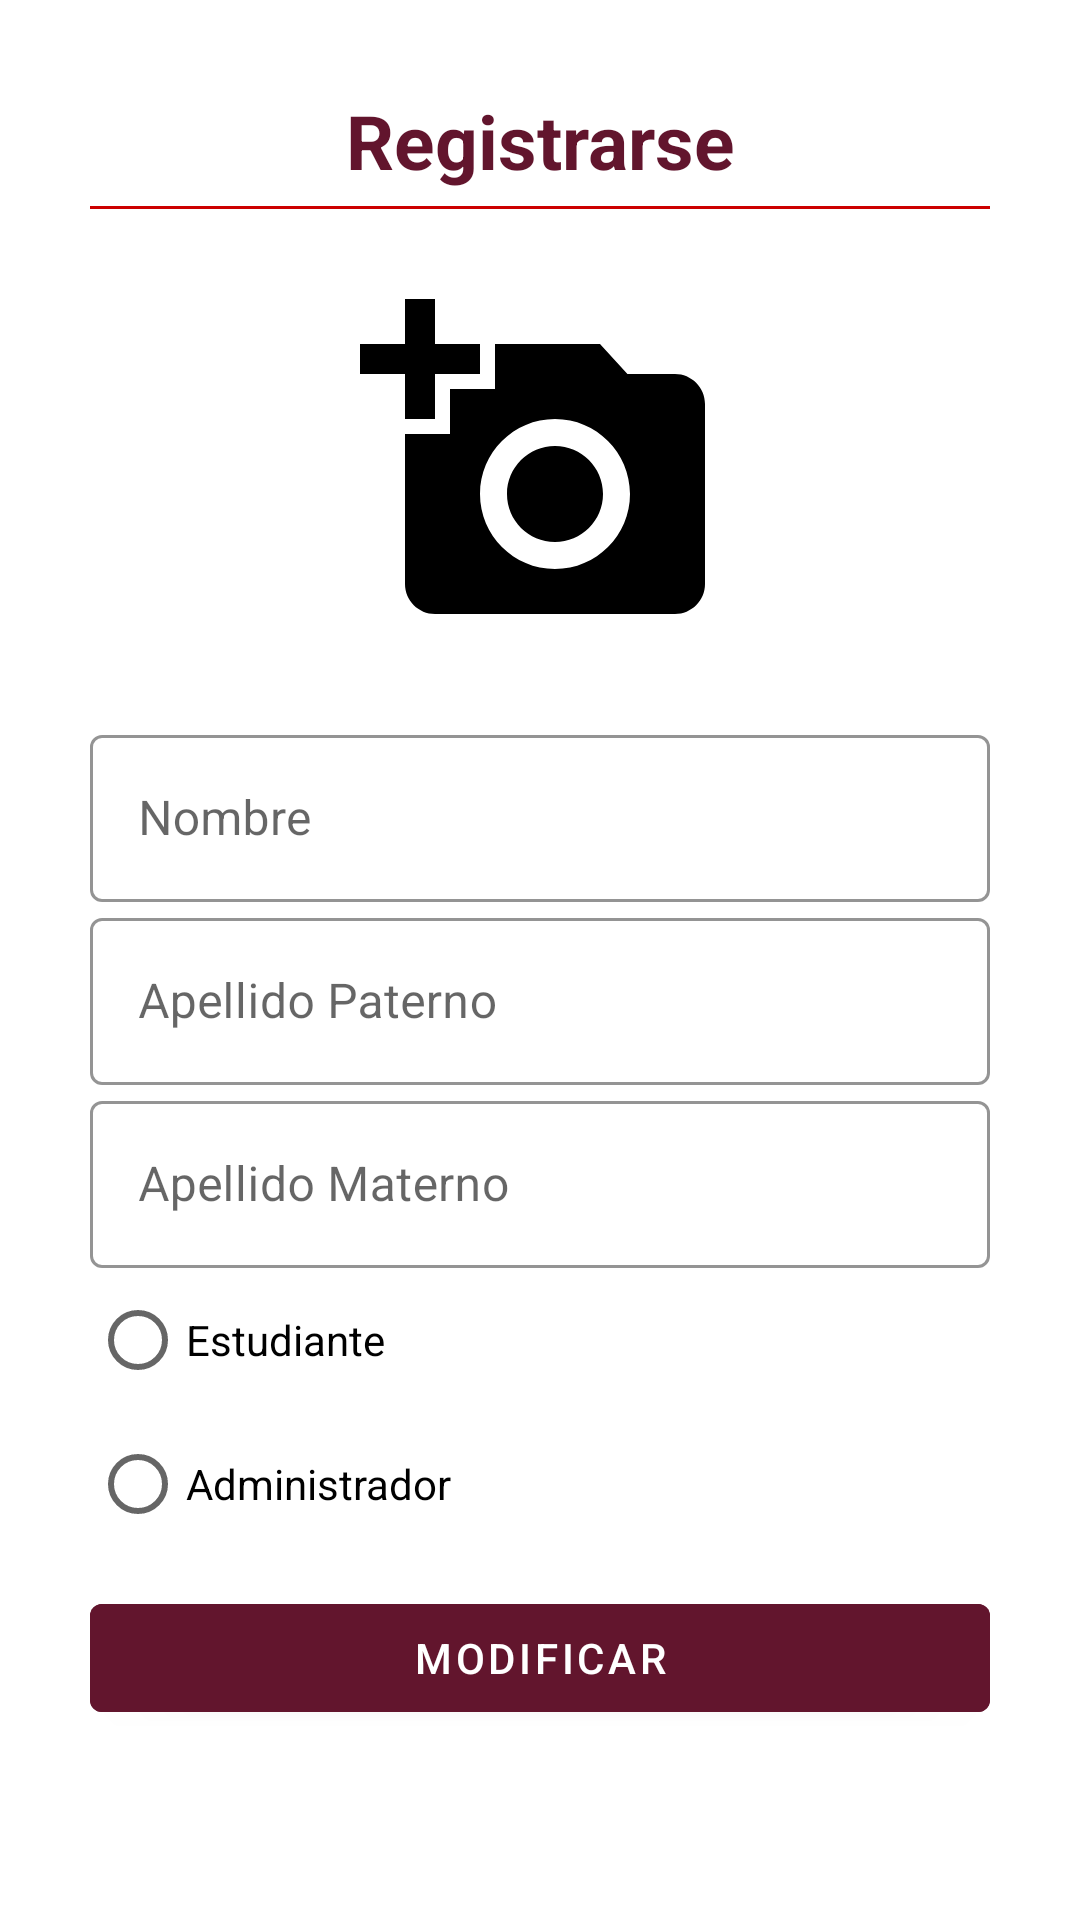

Locate icon controls on the screen. Image size 1080px x 1920px, boxes as (x1, y1, x2, y2).
add foto usuario: (360, 299, 705, 614)
